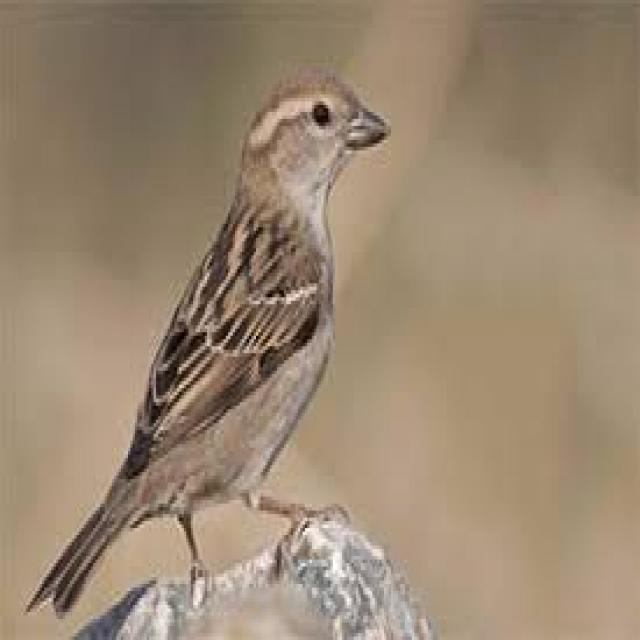bird: (23, 58, 397, 621)
